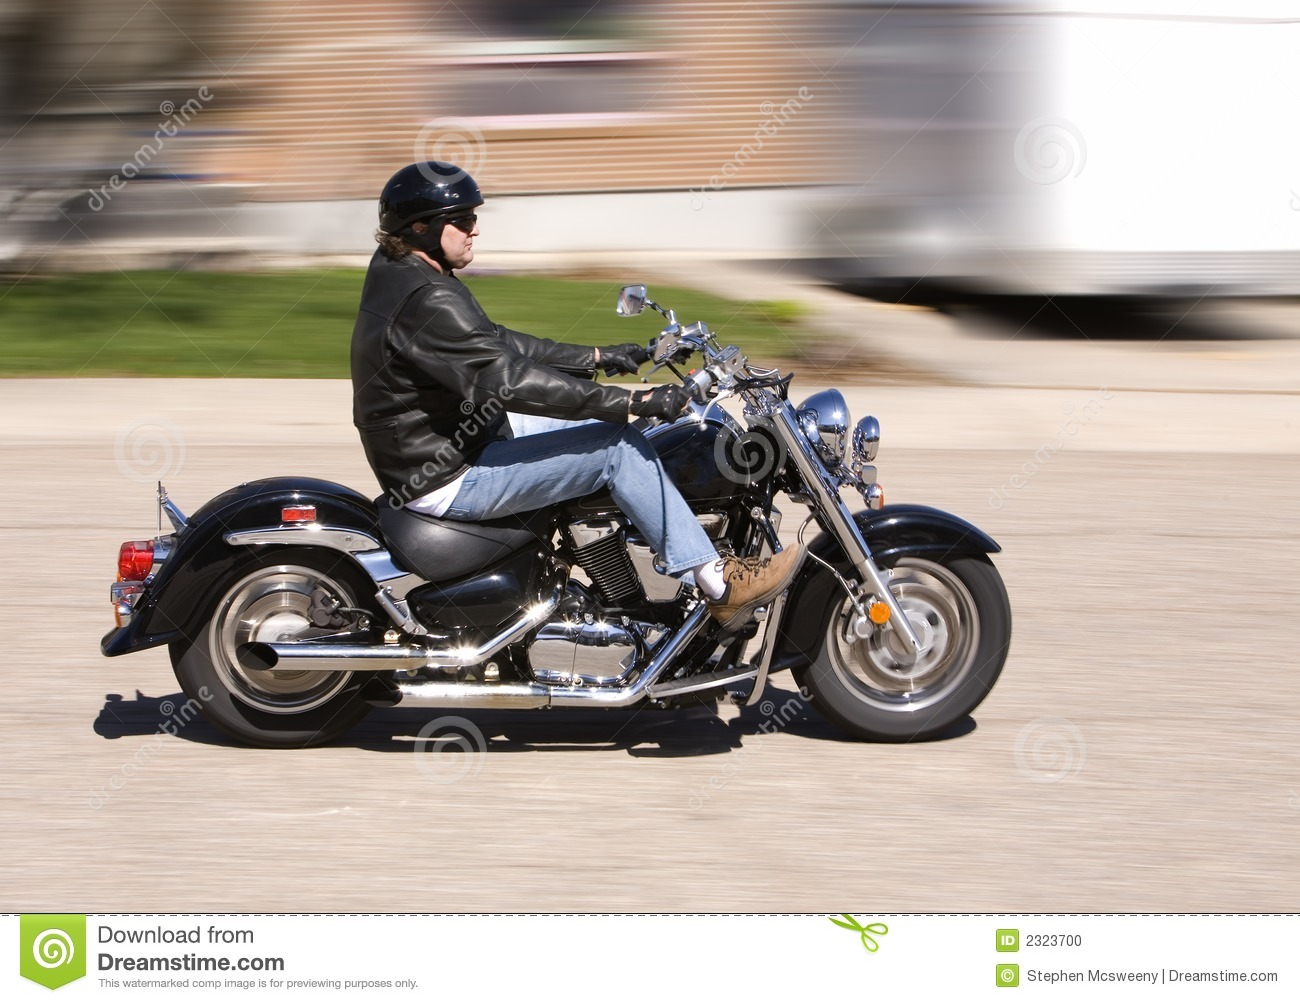helmet: (370, 168, 499, 236)
